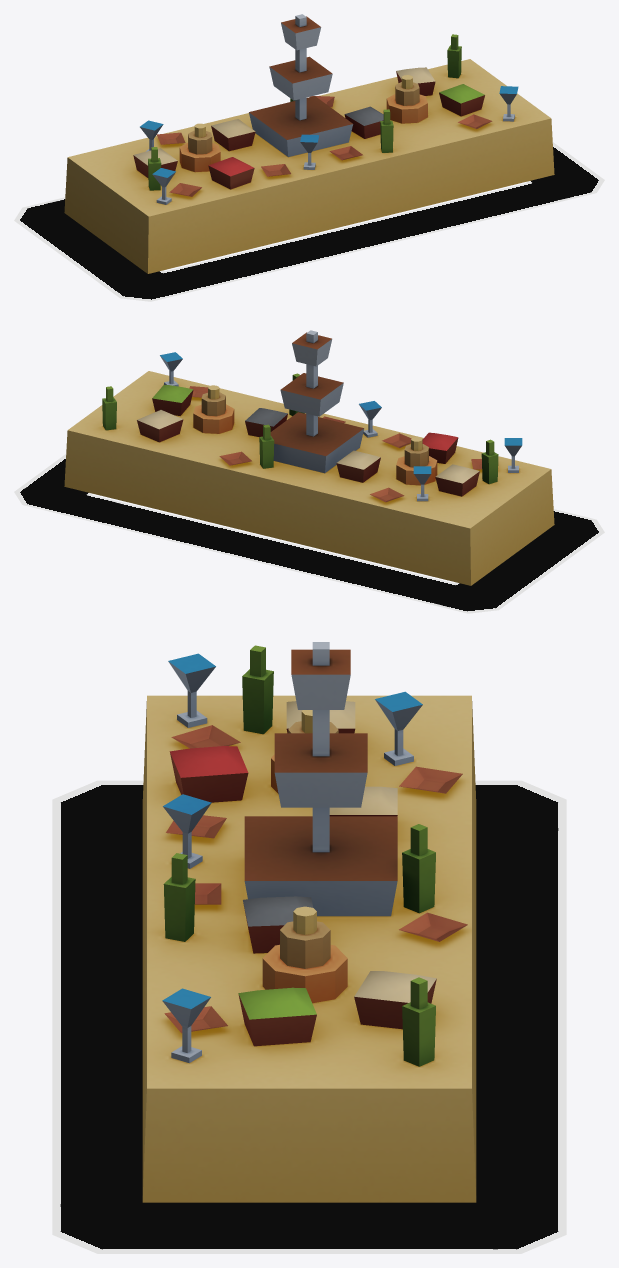
File: 5x2_buffet.FBX
The picture shows the model from 3 angles, top to bottom: view 1: azimuth 30°, elevation 25°; view 2: azimuth 150°, elevation 25°; view 3: azimuth 270°, elevation 25°; orthographic projection. The views are drawn at different scales.
Parts seen in each view (by area): view 1: 5x2_buffet, 5x2_buffet_soft_shadow; view 2: 5x2_buffet, 5x2_buffet_soft_shadow; view 3: 5x2_buffet, 5x2_buffet_soft_shadow.
Part boxes in pixels (x1,y1,x2,y2): 5x2_buffet: (64,14,554,273); 5x2_buffet_soft_shadow: (14,142,604,301); 5x2_buffet: (64,330,554,585); 5x2_buffet_soft_shadow: (14,454,604,613); 5x2_buffet: (142,642,476,1202); 5x2_buffet_soft_shadow: (52,780,566,1253).
Size of the model in its own units: 5580 by 2013 by 2565.
